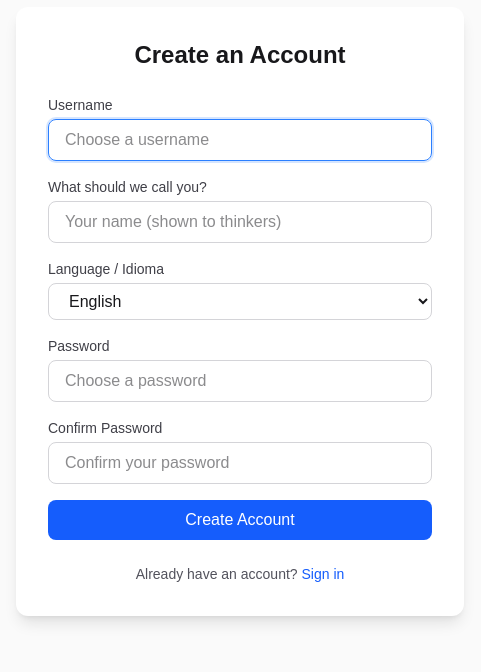
Test: RegisterPage › shows error for mismatched passwords
Step 1. Type "newuser" into the field labelled "Username" → (240, 140), box [48,118,432,160]
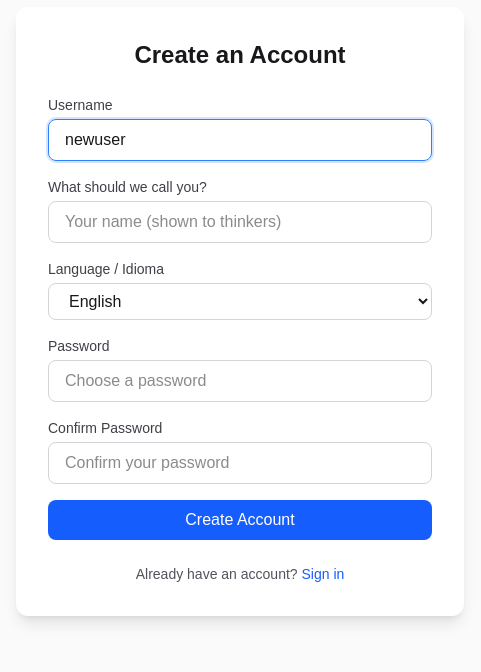
Step 2. Type "New User" into the field labelled "What should we call you?" → (240, 222), box [48,200,432,242]
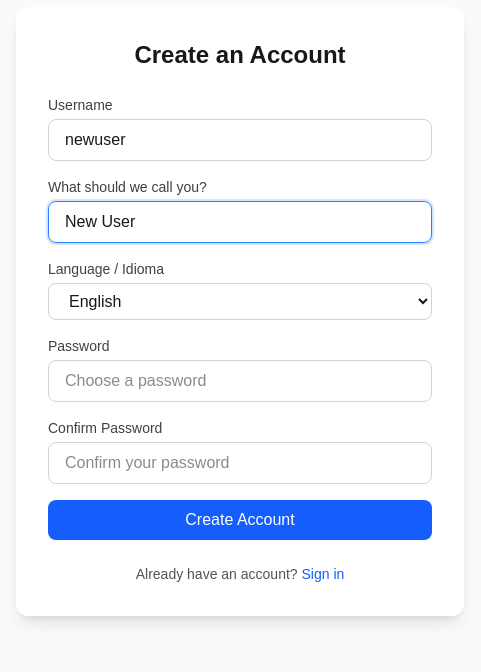
Step 3. Type "password123" into the password field labelled "Password" → (240, 380), box [48,360,432,402]
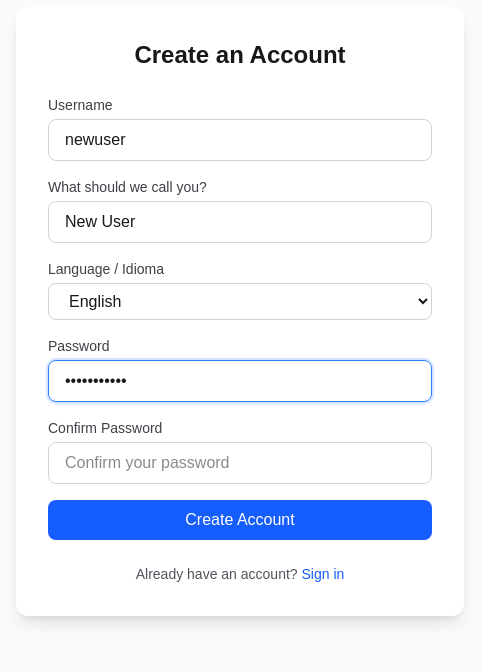
Step 4. Type "different" into the password field labelled "Confirm Password" → (240, 462), box [48,442,432,484]
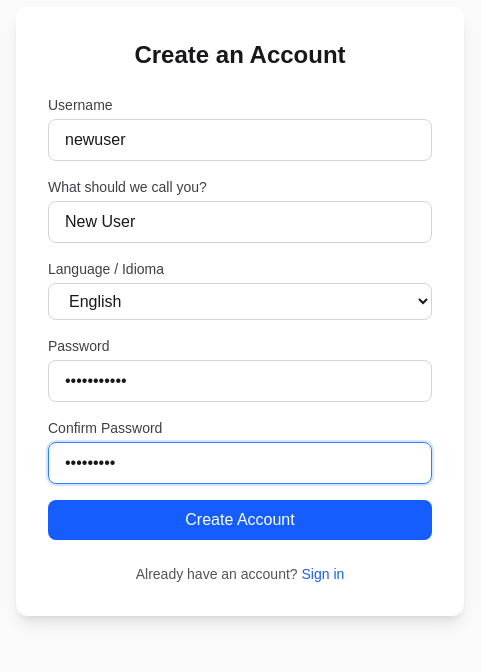
Step 5. Click the button "Create Account" → (240, 520), box [48,500,432,540]
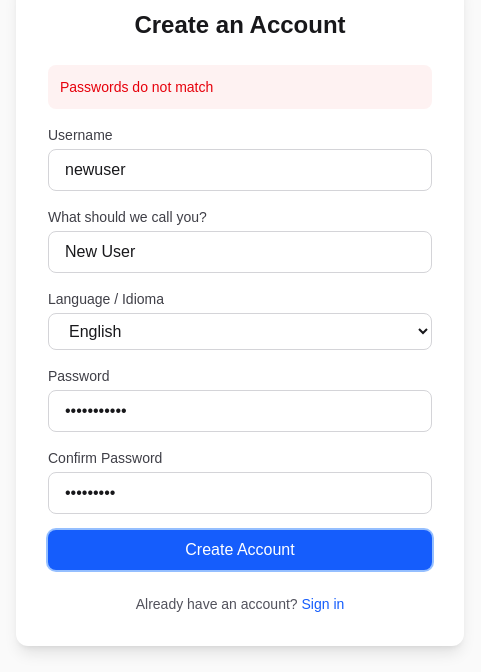
Expected: the text "Passwords do not match" is shown, [48,64,432,108]
